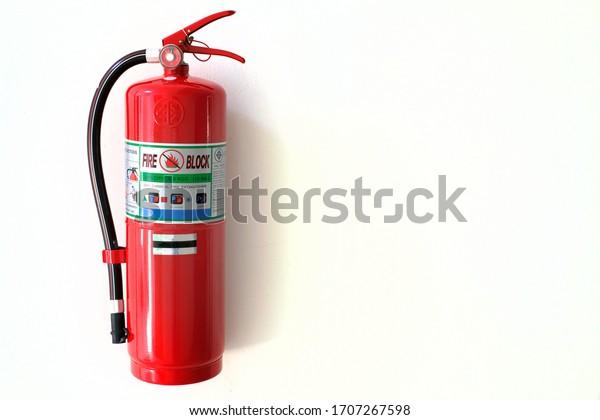wall-mounted: (55, 7, 259, 387)
